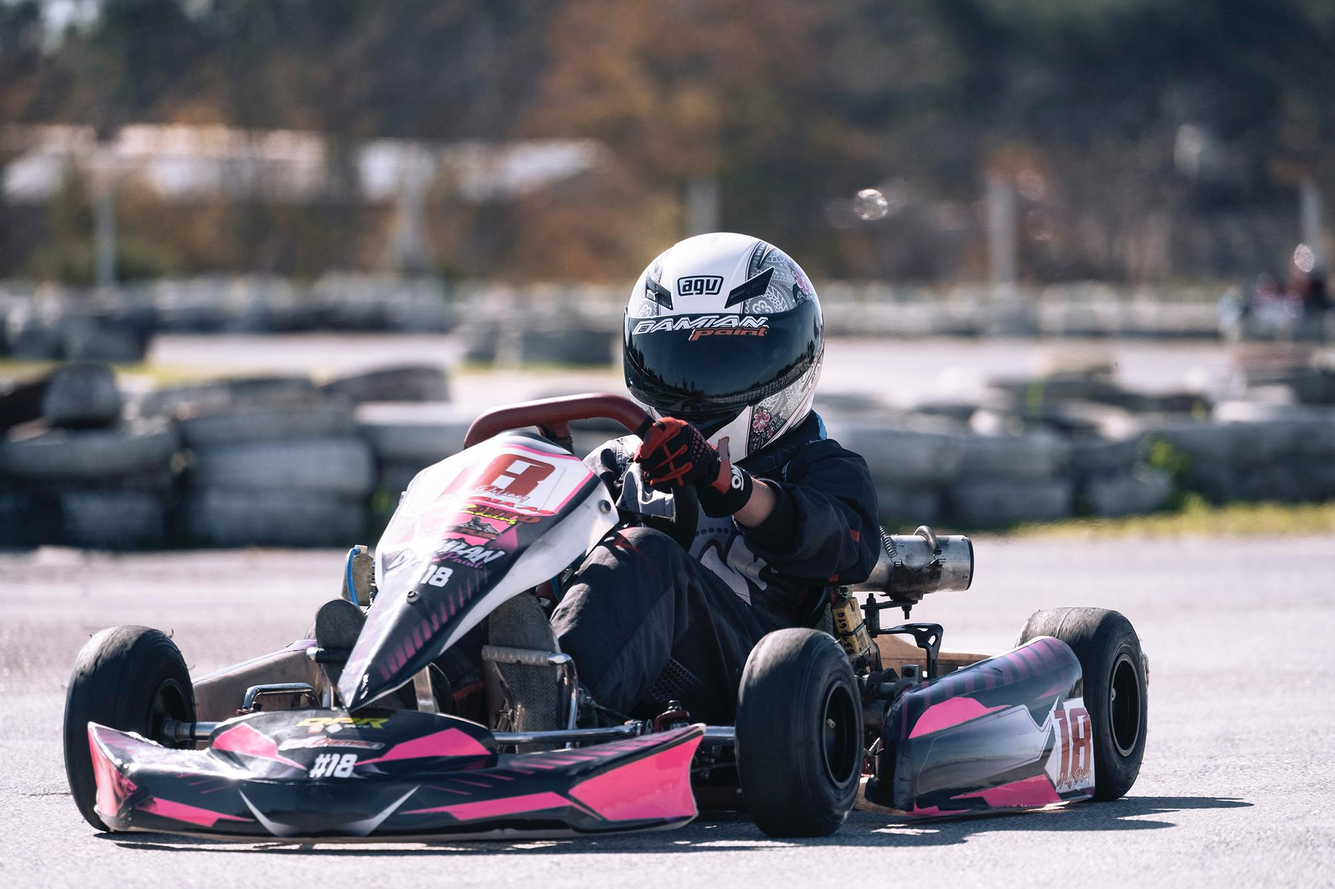helmet: (621, 230, 826, 471)
